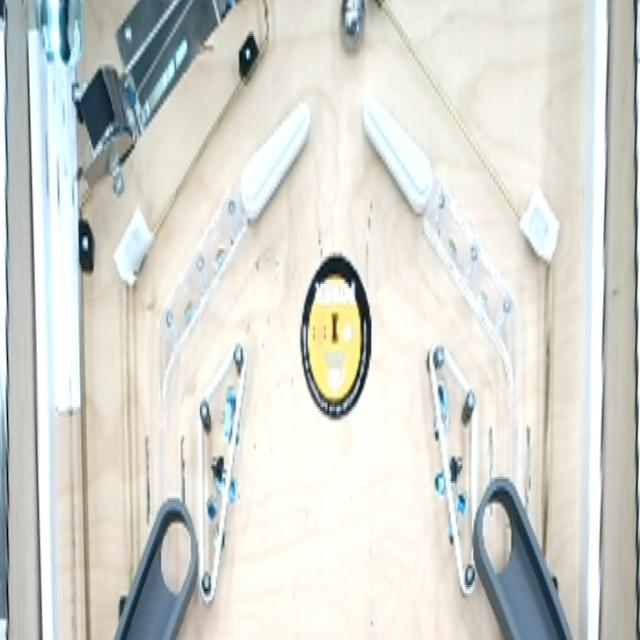ball: (338, 0, 372, 54)
flipper-left: (359, 88, 436, 223)
flipper-right: (237, 92, 313, 231)
